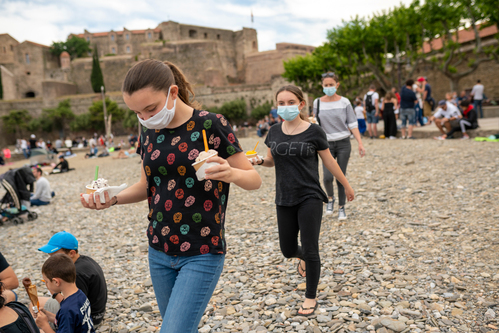with_mask: (126, 88, 173, 135), (274, 91, 299, 123), (322, 76, 341, 100)
